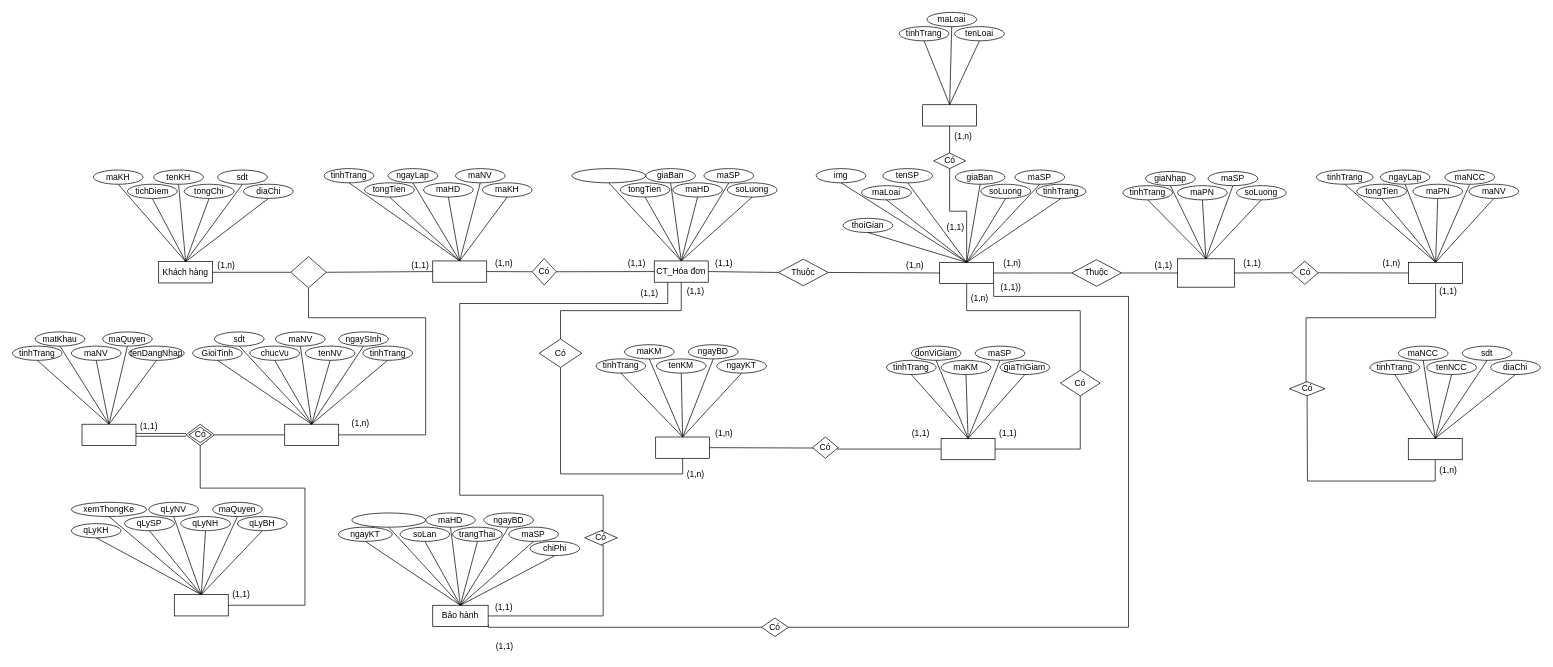
This 1553x667 diagram has some shape labels left out. The centre of each missing label's shape, as x and y in pixels:
CT_Khuyến mãi: the point at 967,449
CT_Phiếu nhập: the point at 1205,272
Hóa đơn: the point at 459,271
Khuyến mãi: the point at 682,447
Loại sản phẩm: the point at 949,115
Lập: the point at 308,272
maBH: the point at 388,519
maKhuyenMai: the point at 608,175
Nhà cung cấp: the point at 1435,449
Nhân viên: the point at 311,435
Phiếu nhập: the point at 1435,273
Phân quyền: the point at 201,605
Sản phẩm: the point at 966,273
Tài khoản: the point at 108,435
